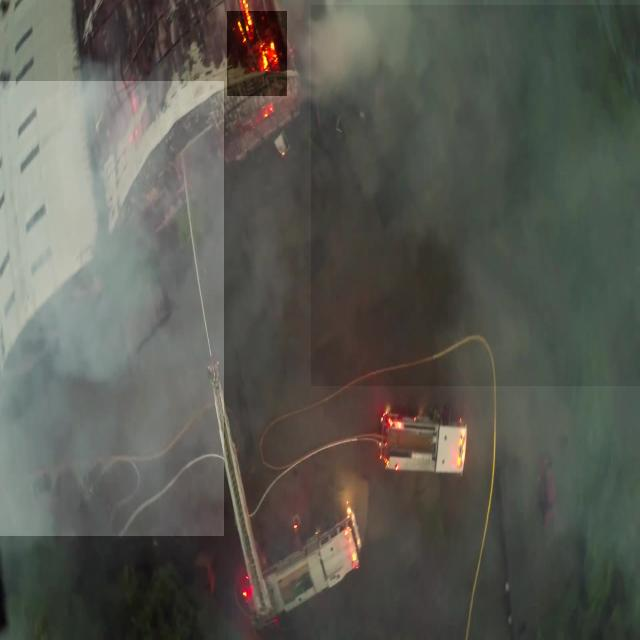Fire: (227, 11, 287, 96)
Smoke: (311, 5, 640, 386), (0, 81, 224, 536)
